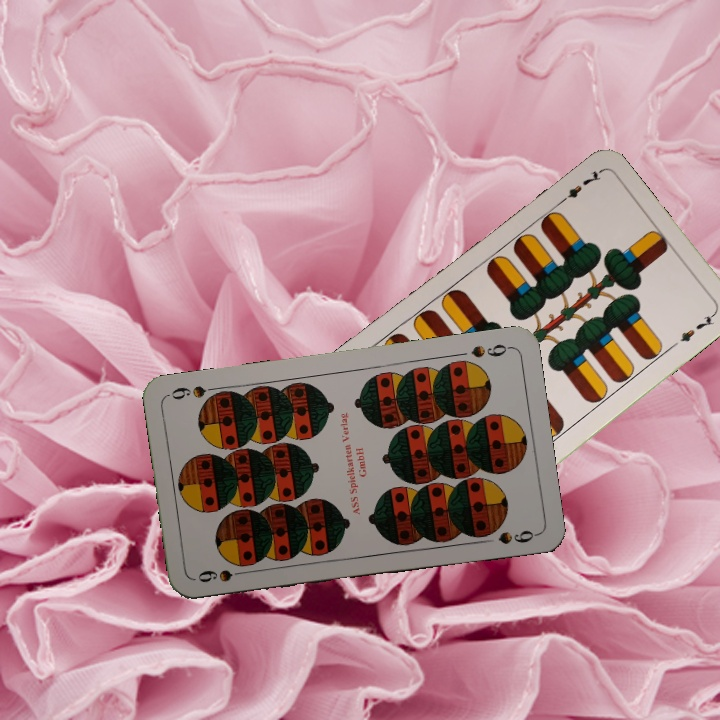E7: (553, 166, 604, 209)
S9: (193, 565, 252, 585), (467, 340, 513, 361)
